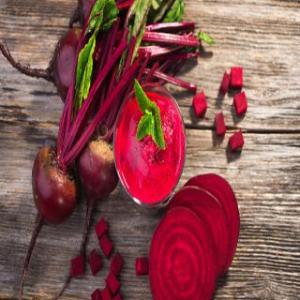beet: (32, 144, 76, 228), (76, 139, 118, 197), (51, 32, 79, 92)
